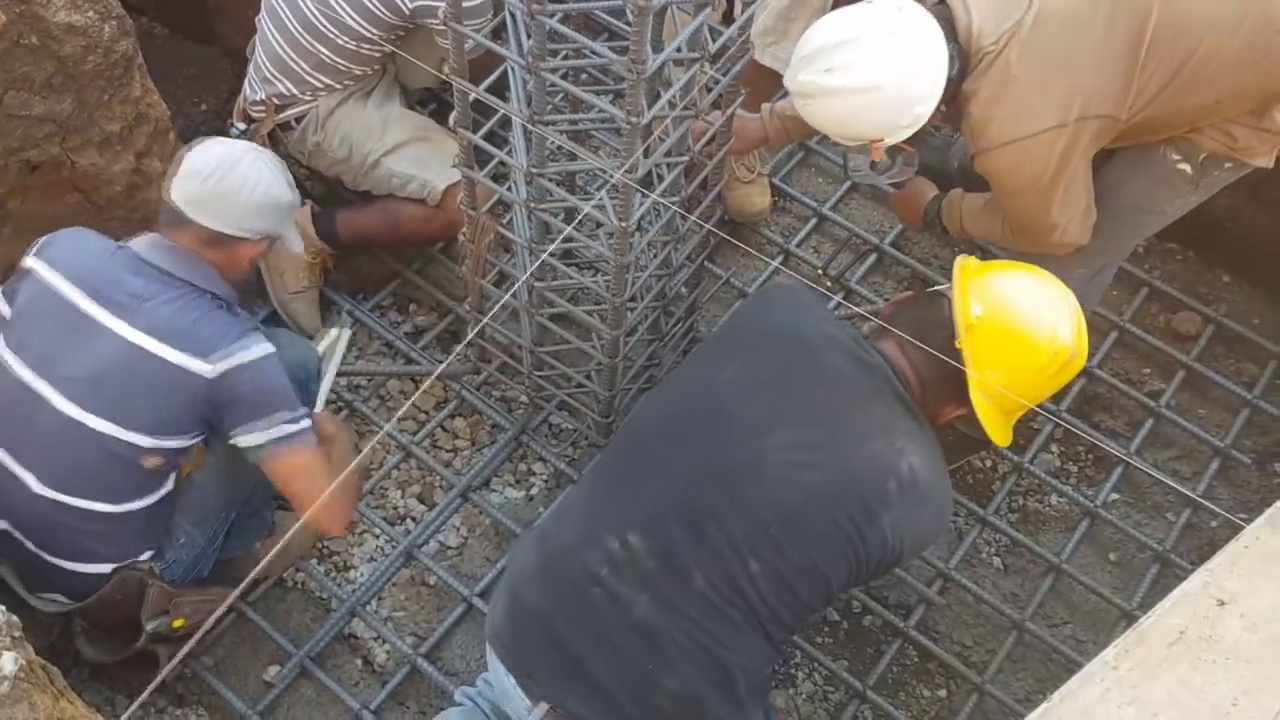helmet: (944, 255, 1093, 453), (788, 4, 946, 159)
helmet-off: (153, 128, 305, 299)
helmet-on: (841, 248, 1102, 460), (786, 6, 985, 167)
person: (435, 256, 1098, 720), (0, 134, 367, 653), (739, 0, 1276, 275), (236, 0, 495, 320)
